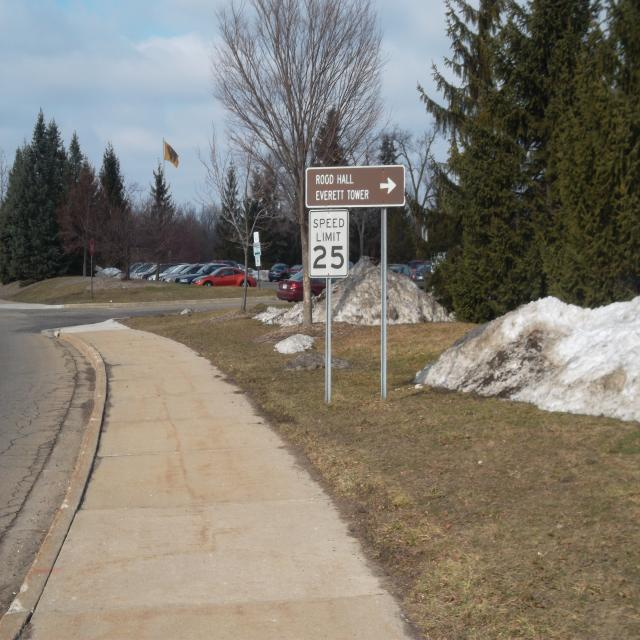regulatory: (309, 209, 349, 277)
